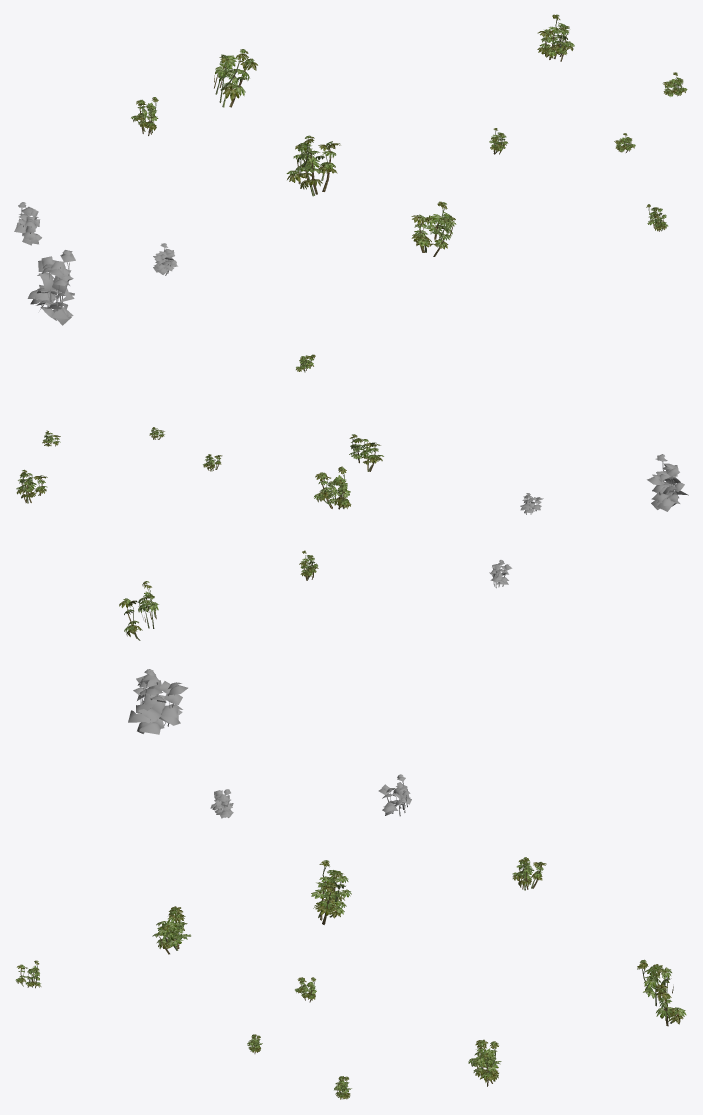
The model's file is S_Tree_Green059_A.FBX.
3 renders of one model, top to bottom at view 1: azimuth 30°, elevation 25°; view 2: azimuth 150°, elevation 25°; view 3: azimuth 270°, elevation 25°, orthographic. The views are drawn at different scales.
Parts seen in each view (by area): view 1: S_Tree_Green059_001, S_Tree_Green059_006, S_Tree_Green059_005, S_Tree_Green059_007, S_Tree_Green059_009, S_Tree_Green059_003, S_Tree_Green059_004, S_Tree_Green059_002; view 2: S_Tree_Green059_001, S_Tree_Green059_006, S_Tree_Green059_005, S_Tree_Green059_007, S_Tree_Green059_009; view 3: S_Tree_Green059_001, S_Tree_Green059_006, S_Tree_Green059_005, S_Tree_Green059_007, S_Tree_Green059_009, S_Tree_Green059_003.
Boxes of the visible parts, box(x1,y1,x2,y2) form: S_Tree_Green059_001: box(27, 250, 75, 325); S_Tree_Green059_006: box(286, 135, 340, 196); S_Tree_Green059_005: box(214, 49, 257, 107); S_Tree_Green059_007: box(411, 201, 456, 256); S_Tree_Green059_009: box(537, 14, 574, 61); S_Tree_Green059_003: box(14, 202, 41, 245); S_Tree_Green059_004: box(131, 97, 158, 135); S_Tree_Green059_002: box(153, 243, 177, 275); S_Tree_Green059_001: box(647, 454, 688, 511); S_Tree_Green059_006: box(314, 466, 351, 509); S_Tree_Green059_005: box(119, 581, 158, 640); S_Tree_Green059_007: box(349, 434, 383, 471); S_Tree_Green059_009: box(16, 469, 47, 503); S_Tree_Green059_001: box(128, 669, 187, 734); S_Tree_Green059_006: box(311, 860, 351, 924); S_Tree_Green059_005: box(637, 959, 686, 1026); S_Tree_Green059_007: box(152, 906, 190, 954); S_Tree_Green059_009: box(468, 1039, 501, 1086); S_Tree_Green059_003: box(378, 774, 411, 816).
Size of the model in its own units: 12281 by 9756 by 2414.
